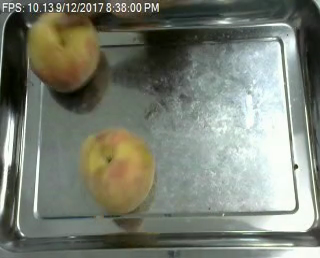Peach: (79, 127, 155, 214), (26, 8, 99, 92)
